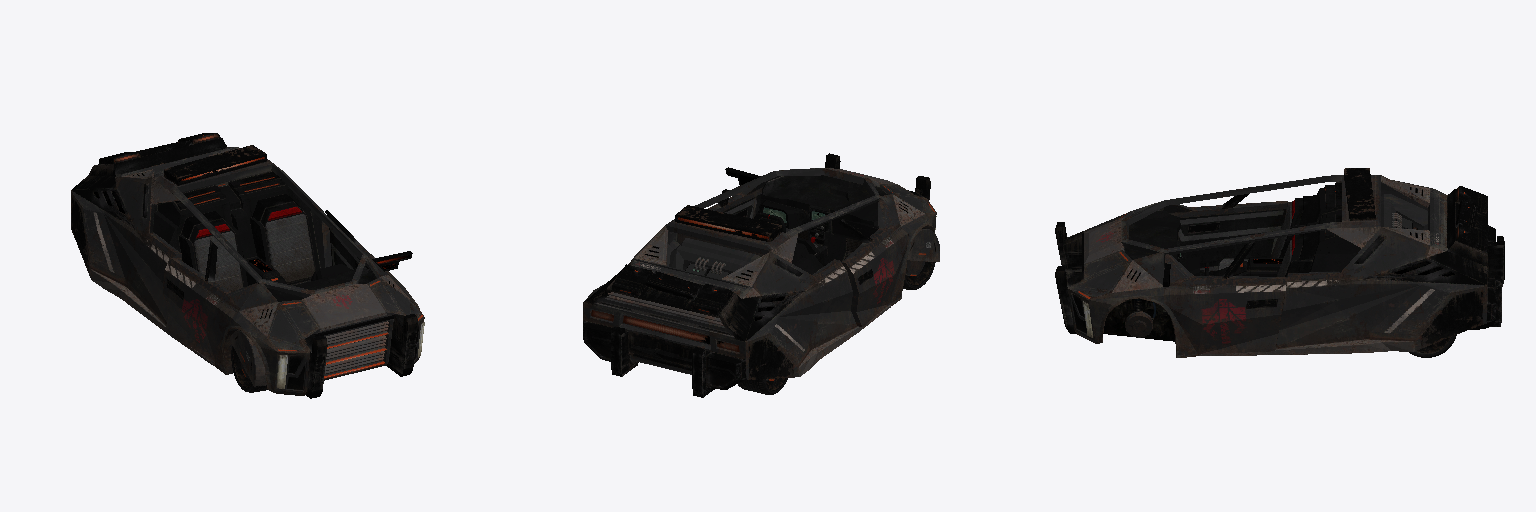
3 renders of one model, left to right at view 1: azimuth 30°, elevation 25°; view 2: azimuth 150°, elevation 25°; view 3: azimuth 270°, elevation 25°, orthographic.
Visible parts, largest first — view 1: AdventCopCarDestro; view 2: AdventCopCarDestro; view 3: AdventCopCarDestro.
Boxes of the visible parts, x1=… form: AdventCopCarDestro: x1=71, y1=133, x2=424, y2=398; AdventCopCarDestro: x1=583, y1=153, x2=939, y2=397; AdventCopCarDestro: x1=1055, y1=168, x2=1504, y2=357.
Bounding box in the file's own units: 182 × 116 × 361.
Materials: 1 (1 with a texture image).